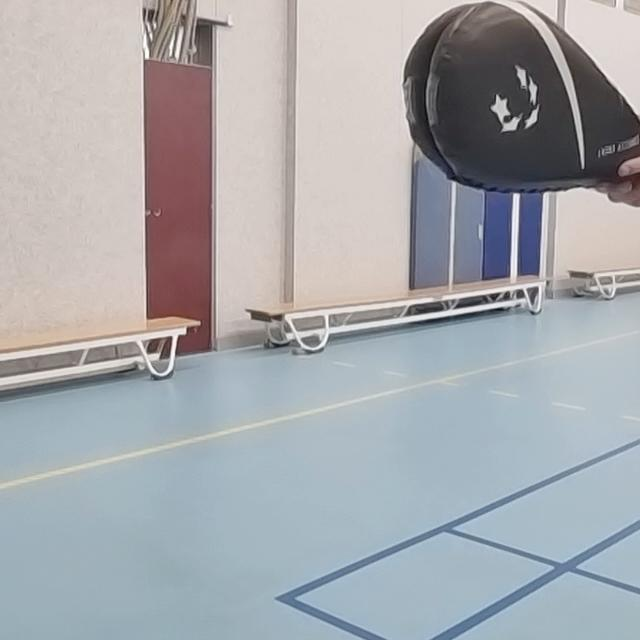paddle: (402, 87, 640, 273)
